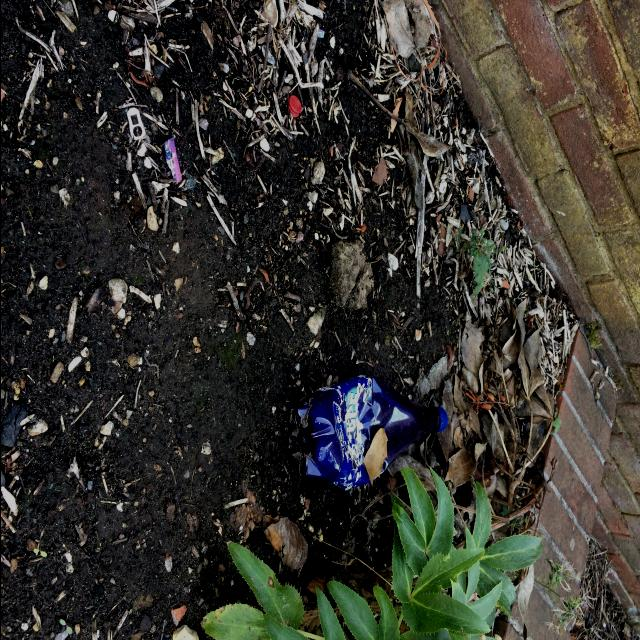Clear plastic bottle: (287, 374, 447, 491)
Metal bottle cap: (288, 95, 301, 118)
Other plastic: (163, 137, 181, 182)
Plastic bottle cap: (436, 407, 447, 432)
Pop tab: (126, 107, 145, 140), (132, 124, 141, 136), (129, 114, 137, 125)
